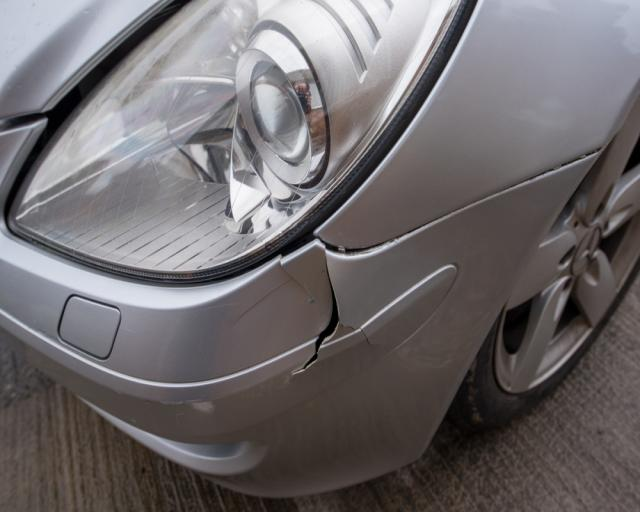crack: (289, 247, 388, 384), (233, 257, 314, 330)
